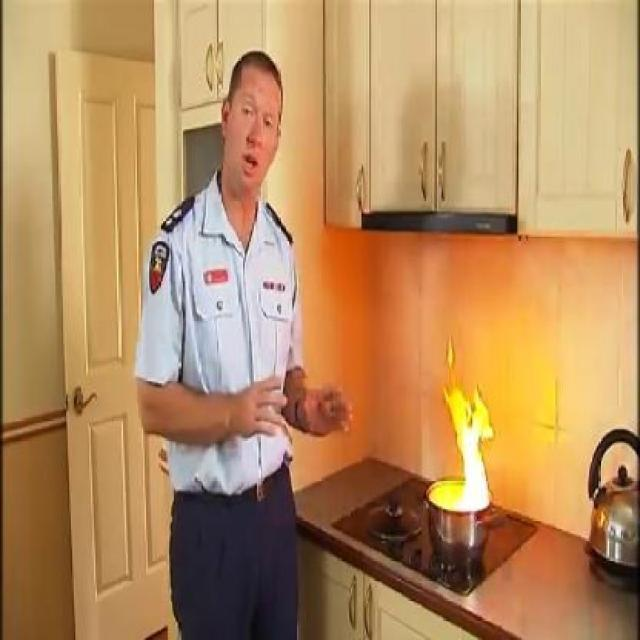fire: (423, 344, 499, 513)
